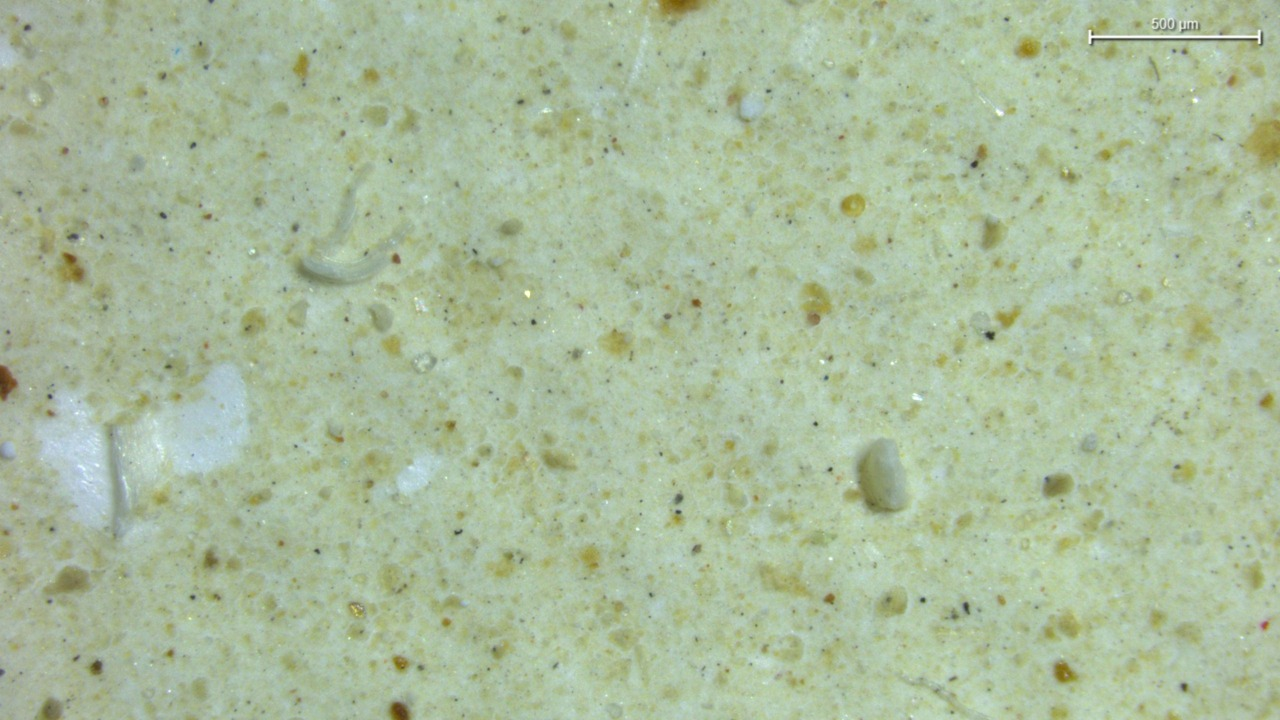microplastic_fragment: (857, 438, 909, 511), (368, 303, 394, 332), (739, 93, 764, 120)
